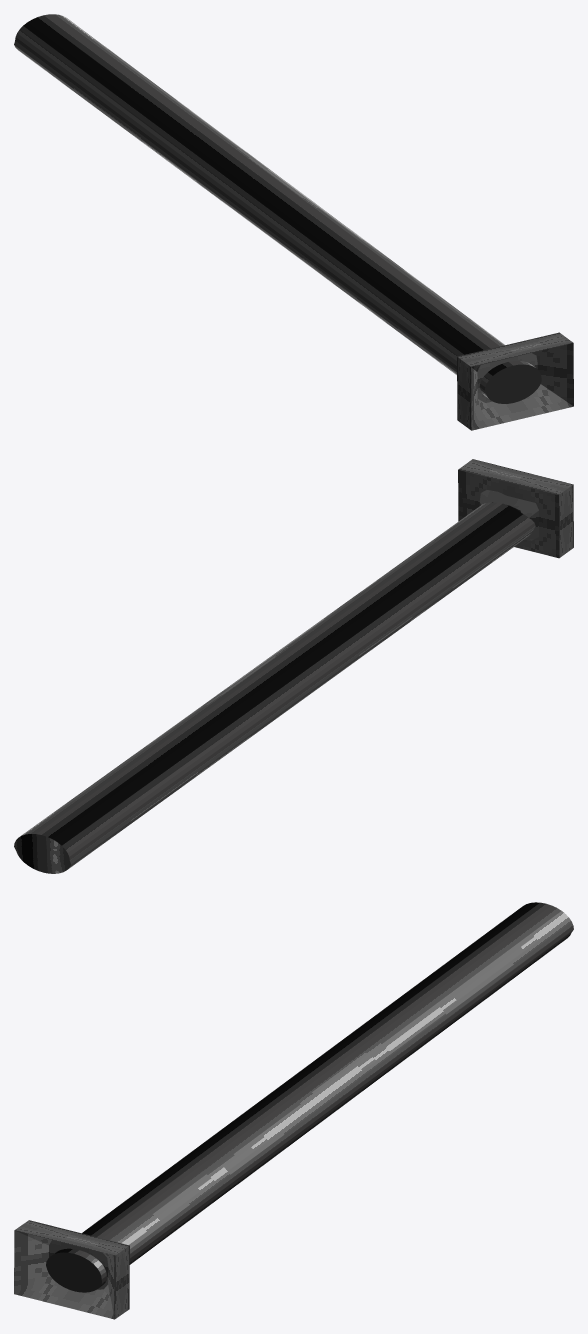
Rendered from TankCannon-01.fbx.
The picture shows the model from 3 angles, top to bottom: view 1: azimuth 30°, elevation 25°; view 2: azimuth 150°, elevation 25°; view 3: azimuth 330°, elevation 25°; orthographic projection.
Visible parts, largest first — view 1: Cube; view 2: Cube; view 3: Cube.
Part boxes in pixels (box(x1,y1,x2,y2)): Cube: box(14, 14, 573, 430); Cube: box(14, 459, 573, 873); Cube: box(14, 902, 573, 1319).
Size of the model in its own units: 14.84 by 8.86 by 121.
